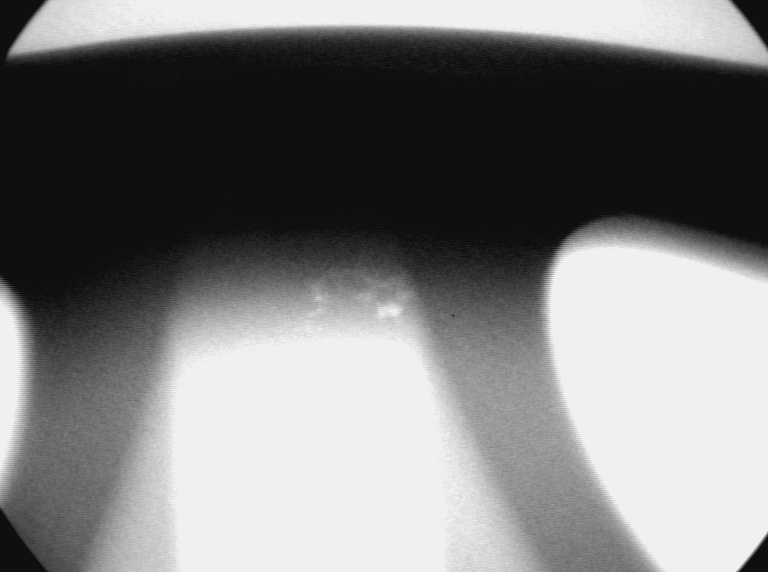defect: (297, 266, 425, 341)
